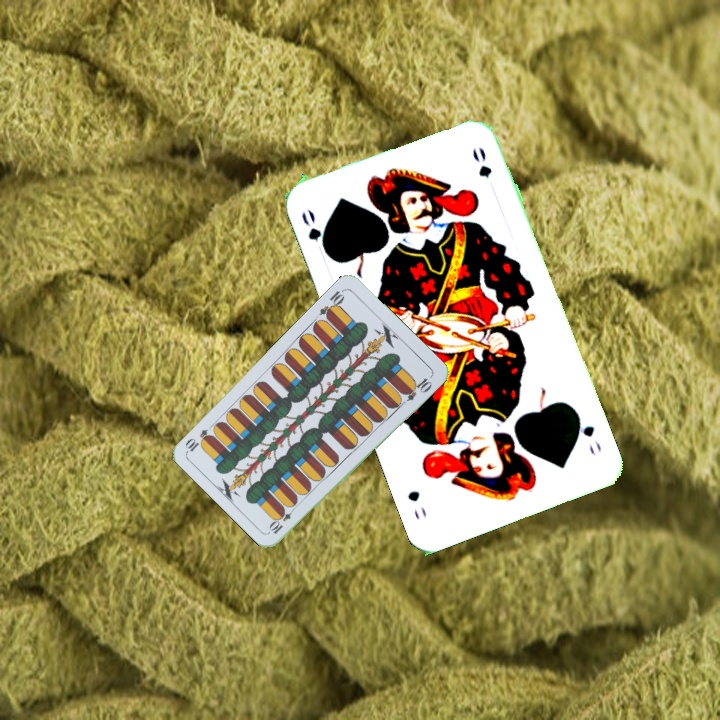E10: (315, 285, 347, 322), (266, 501, 299, 536)
GO: (571, 407, 604, 459), (297, 205, 329, 255)
